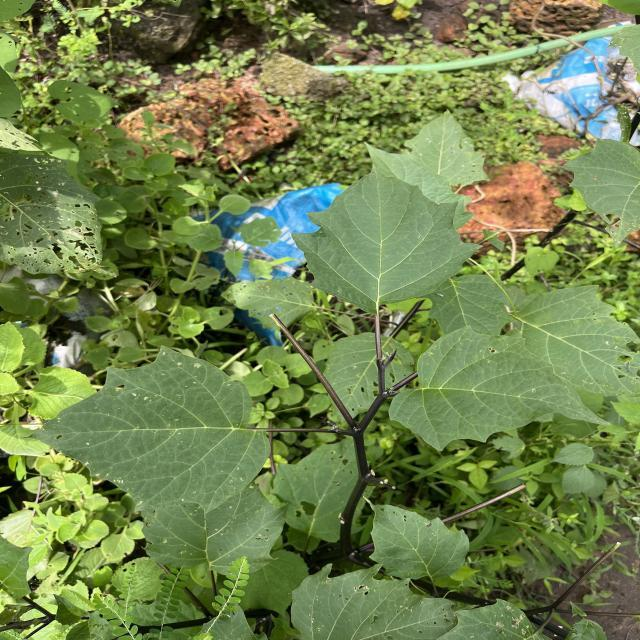Datura metal linn: (18, 343, 274, 516), (290, 162, 486, 318), (386, 323, 614, 453), (358, 491, 474, 584)
